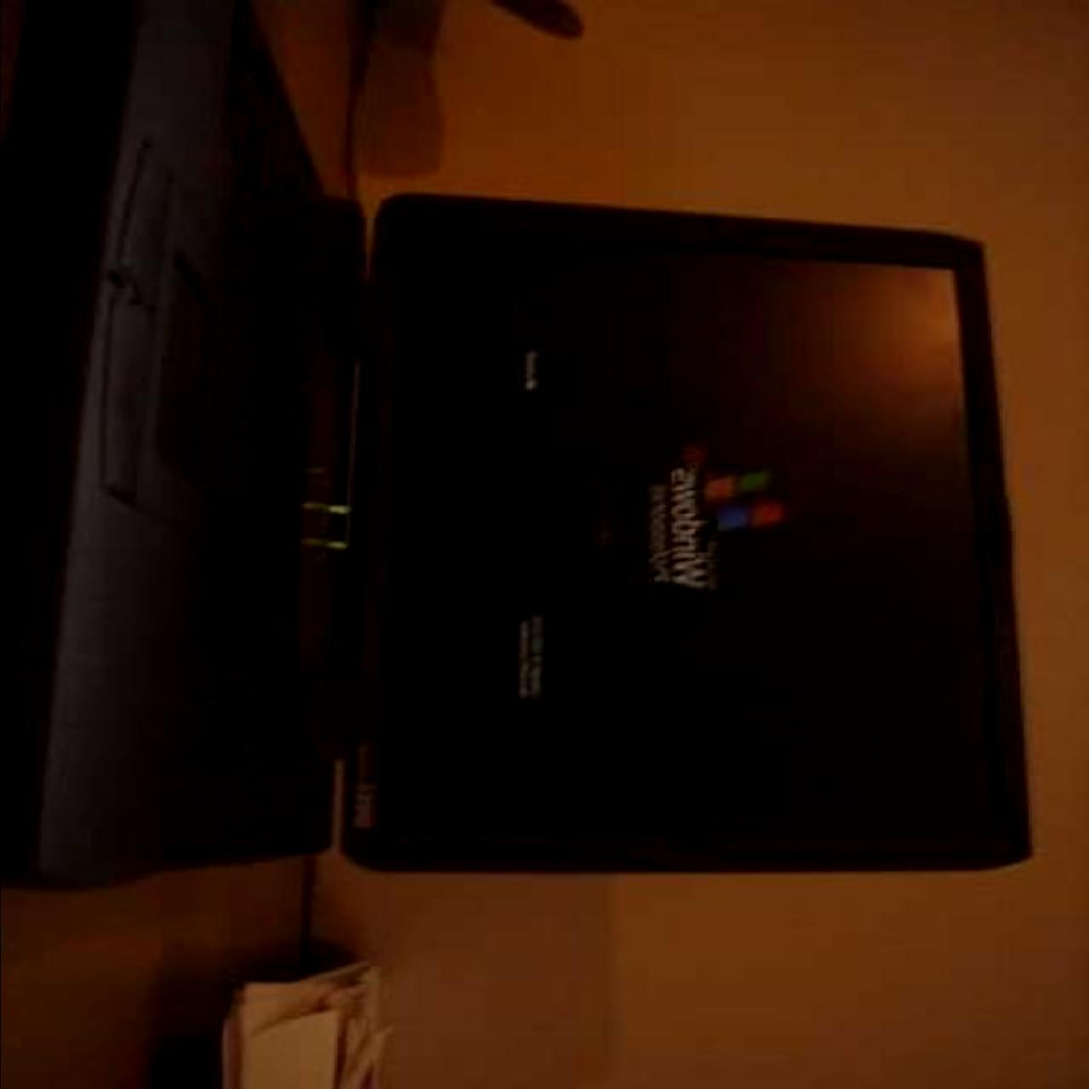laptop: (92, 220, 1028, 848)
